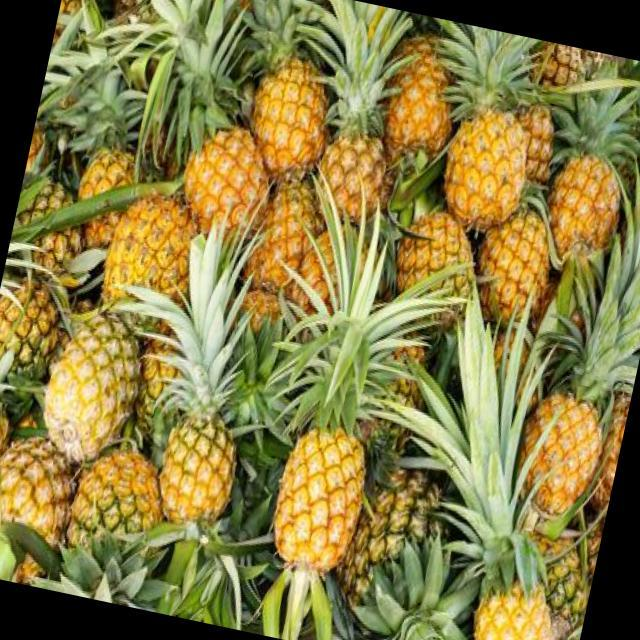PINEAPLE: (387, 317, 622, 640), (263, 234, 416, 576), (120, 240, 280, 521), (46, 58, 171, 267), (343, 417, 469, 622), (438, 38, 552, 241), (539, 52, 640, 278), (309, 23, 416, 222), (166, 86, 278, 257), (234, 0, 348, 162), (39, 292, 148, 454), (60, 442, 172, 594), (0, 415, 90, 578), (99, 176, 200, 306), (392, 15, 474, 174), (0, 252, 74, 393), (73, 0, 214, 56), (0, 385, 17, 509)
